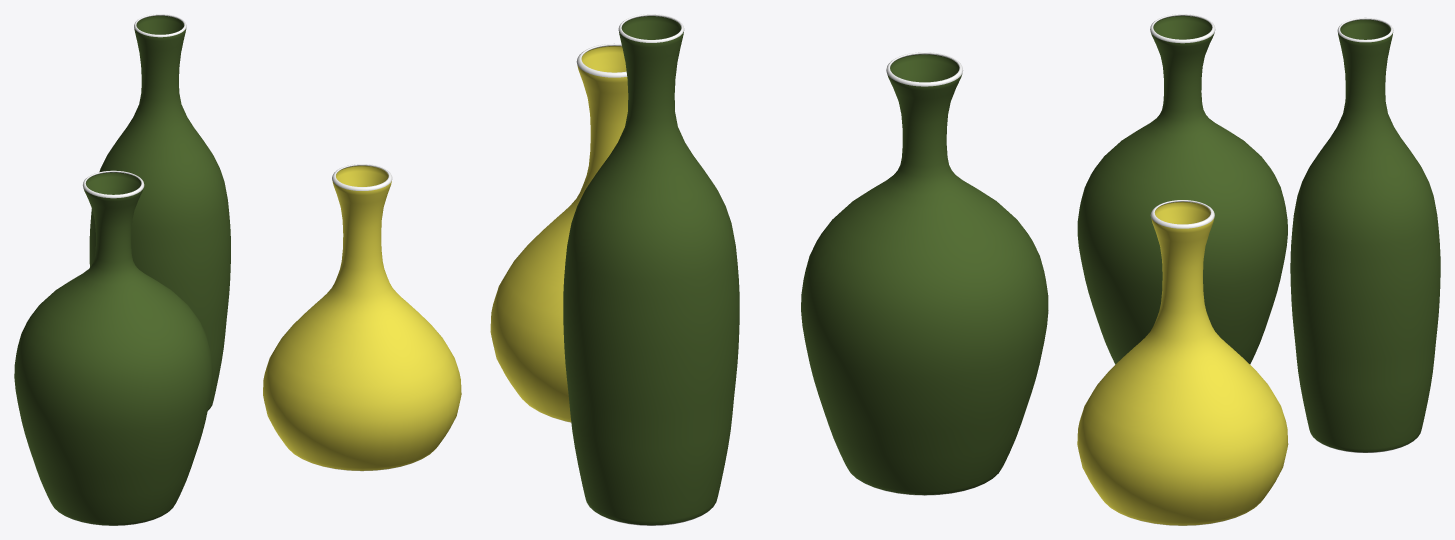
Rendered from color vase.FBX.
The picture shows the model from 3 angles, left to right: view 1: azimuth 30°, elevation 25°; view 2: azimuth 150°, elevation 25°; view 3: azimuth 270°, elevation 25°; orthographic projection. The views are drawn at different scales.
Parts seen in each view (by area): view 1: Cylinder001, Cylinder002, Cylinder003; view 2: Cylinder001, Cylinder003, Cylinder002; view 3: Cylinder003, Cylinder002, Cylinder001.
Part boxes in pixels (x1=…): Cylinder001: x1=14, y1=170, x2=212, y2=525; Cylinder002: x1=263, y1=164, x2=461, y2=471; Cylinder003: x1=89, y1=14, x2=230, y2=410; Cylinder001: x1=801, y1=52, x2=1048, y2=495; Cylinder003: x1=563, y1=14, x2=739, y2=525; Cylinder002: x1=490, y1=43, x2=628, y2=422; Cylinder003: x1=1290, y1=17, x2=1440, y2=452; Cylinder002: x1=1077, y1=200, x2=1288, y2=525; Cylinder001: x1=1077, y1=14, x2=1287, y2=364.
Size of the model in its own units: 296 by 256 by 209.
